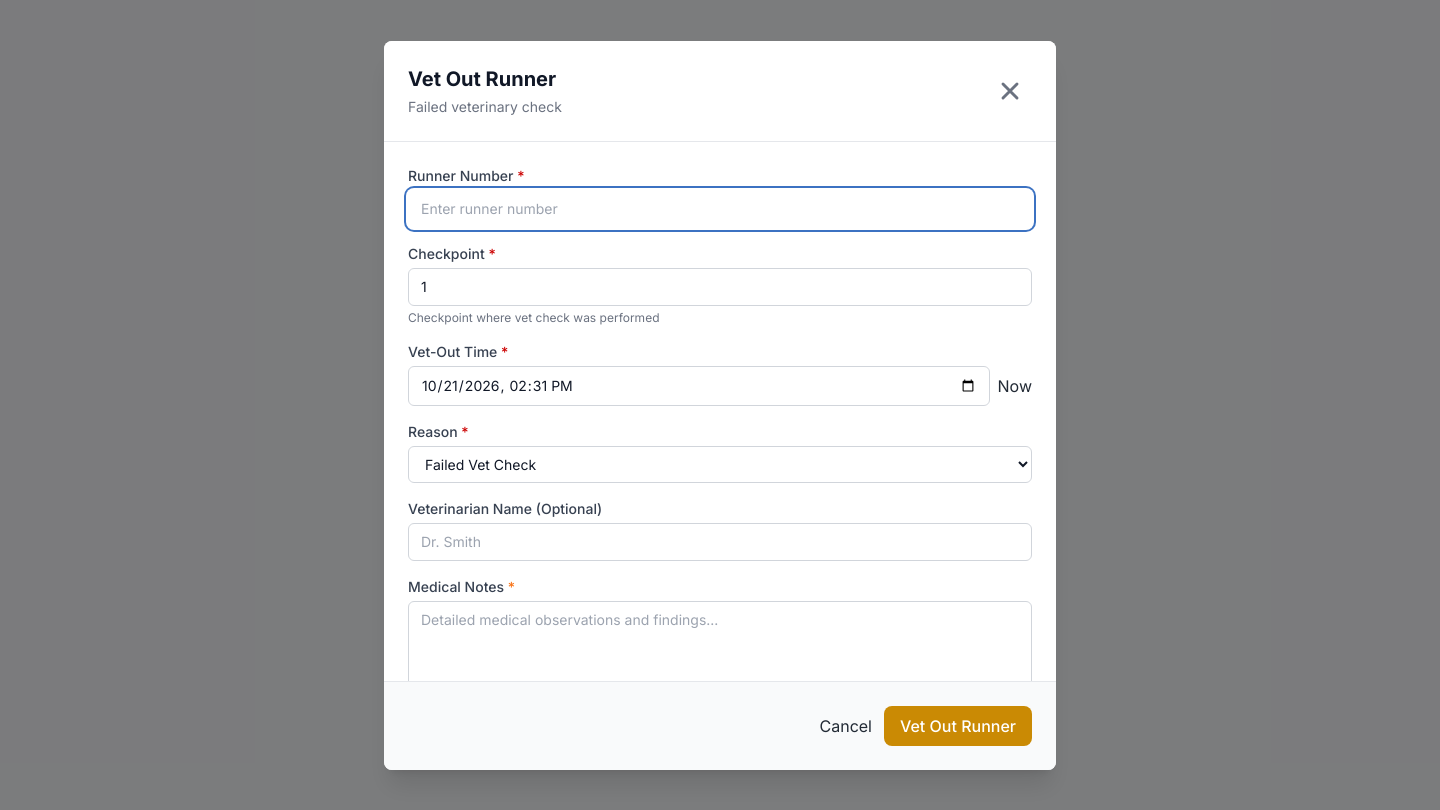
Scenario: VetOutDialog › validates required fields
This screenshot has width=1440, height=810.
Click the button "Vet Out Runner".
click(958, 726)  # box top-left (884, 706), bottom-right (1032, 746)
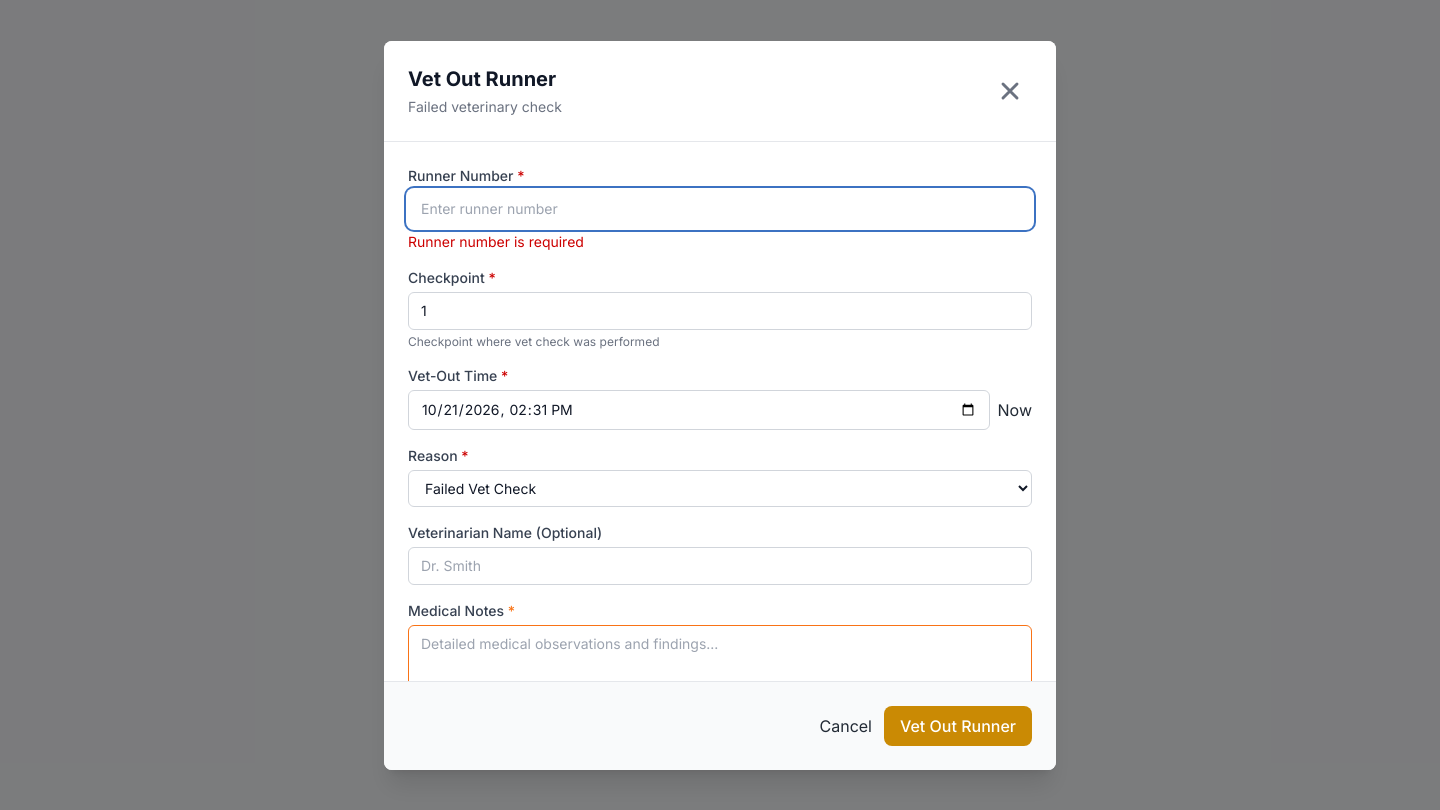
Expected: the text "Runner number is required" is shown, top-left (408, 232), bottom-right (584, 250)
